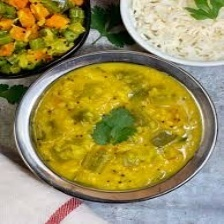dal: (30, 61, 204, 194)
